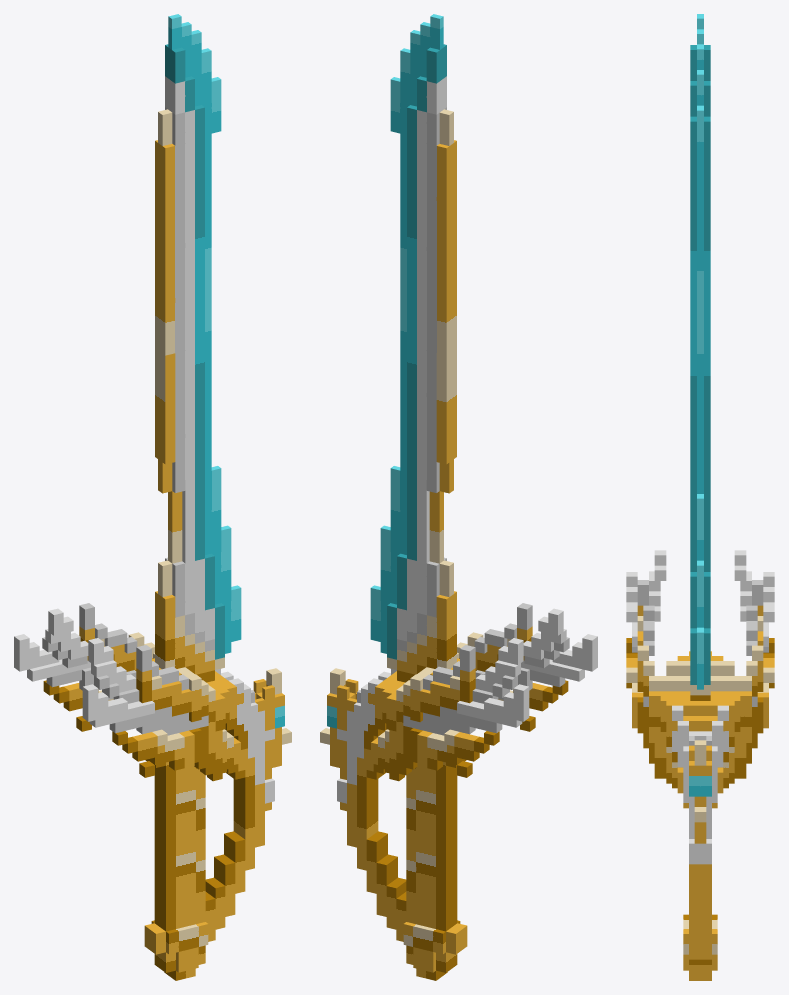
File: katana.gltf
The picture shows the model from 3 angles, left to right: view 1: azimuth 30°, elevation 25°; view 2: azimuth 150°, elevation 25°; view 3: azimuth 270°, elevation 25°; orthographic projection.
Visible parts, largest first — view 1: 570cc480-6270-a25c-bf84-ef49362b7244, 5fc17426-a85f-0b15-4359-f5493ddd0708, f7201d5a-1917-5e07-a4fb-13e13b9d6cca, 4e62e0ee-7360-2dc8-e777-ce7f57bca195, 2e2a6cba-bee2-8a7b-dd69-bbd5a6a8c971, 4c937c9e-9b77-12fa-7a12-b3beec4e554b, cb315742-deff-dafc-1913-c2b02e1ddc7b, 72219b45-7e13-3df1-3427-1bf5141d063c, 4b2b4730-247a-9a1a-f895-2172019347c0, 767d0eab-00f0-8bd3-aaf3-491b108863b1, 8ec7d277-5123-2d0f-2b3c-1e376cd5e0a7, 0d2dd542-af4e-cc5f-b95e-77bd811365df (+17 smaller); view 2: 570cc480-6270-a25c-bf84-ef49362b7244, 5fc17426-a85f-0b15-4359-f5493ddd0708, f7201d5a-1917-5e07-a4fb-13e13b9d6cca, 4e62e0ee-7360-2dc8-e777-ce7f57bca195, 2e2a6cba-bee2-8a7b-dd69-bbd5a6a8c971, 4c937c9e-9b77-12fa-7a12-b3beec4e554b, cb315742-deff-dafc-1913-c2b02e1ddc7b, 72219b45-7e13-3df1-3427-1bf5141d063c, 4b2b4730-247a-9a1a-f895-2172019347c0, 767d0eab-00f0-8bd3-aaf3-491b108863b1, 8ec7d277-5123-2d0f-2b3c-1e376cd5e0a7, 0d2dd542-af4e-cc5f-b95e-77bd811365df (+17 smaller); view 3: 570cc480-6270-a25c-bf84-ef49362b7244, f7201d5a-1917-5e07-a4fb-13e13b9d6cca, 4b2b4730-247a-9a1a-f895-2172019347c0, cb315742-deff-dafc-1913-c2b02e1ddc7b, 265fc725-95f0-8ba3-2846-b5e7803e0073, 8dc4ab7a-d48a-adbf-1e0e-35c6787785ef, 2e2a6cba-bee2-8a7b-dd69-bbd5a6a8c971, 7f9fc877-0c62-89db-e4c9-e67b2d5a31a3, f67aef8d-c8ae-8af3-65cd-d0c54d34977e, 8e897e09-a5ea-0563-c454-804012096235, eeb7eece-518a-c00d-c241-f82482d33e1f, 27142040-0444-bf21-23cd-cd746452ae29 (+28 smaller).
Boxes of the visible parts, x1=… form: 570cc480-6270-a25c-bf84-ef49362b7244: x1=155, y1=138, x2=204, y2=355; 5fc17426-a85f-0b15-4359-f5493ddd0708: x1=154, y1=762, x2=205, y2=931; f7201d5a-1917-5e07-a4fb-13e13b9d6cca: x1=172, y1=346, x2=204, y2=482; 4e62e0ee-7360-2dc8-e777-ce7f57bca195: x1=155, y1=348, x2=175, y2=464; 2e2a6cba-bee2-8a7b-dd69-bbd5a6a8c971: x1=165, y1=553, x2=214, y2=617; 4c937c9e-9b77-12fa-7a12-b3beec4e554b: x1=155, y1=603, x2=224, y2=650; cb315742-deff-dafc-1913-c2b02e1ddc7b: x1=182, y1=475, x2=204, y2=563; 72219b45-7e13-3df1-3427-1bf5141d063c: x1=233, y1=757, x2=254, y2=870; 4b2b4730-247a-9a1a-f895-2172019347c0: x1=205, y1=133, x2=211, y2=342; 767d0eab-00f0-8bd3-aaf3-491b108863b1: x1=155, y1=636, x2=224, y2=669; 8ec7d277-5123-2d0f-2b3c-1e376cd5e0a7: x1=205, y1=466, x2=221, y2=554; 0d2dd542-af4e-cc5f-b95e-77bd811365df: x1=211, y1=525, x2=231, y2=604; 570cc480-6270-a25c-bf84-ef49362b7244: x1=407, y1=138, x2=456, y2=355; 5fc17426-a85f-0b15-4359-f5493ddd0708: x1=406, y1=762, x2=457, y2=931; f7201d5a-1917-5e07-a4fb-13e13b9d6cca: x1=407, y1=346, x2=439, y2=482; 4e62e0ee-7360-2dc8-e777-ce7f57bca195: x1=436, y1=348, x2=456, y2=464; 2e2a6cba-bee2-8a7b-dd69-bbd5a6a8c971: x1=397, y1=553, x2=446, y2=617; 4c937c9e-9b77-12fa-7a12-b3beec4e554b: x1=387, y1=603, x2=456, y2=650; cb315742-deff-dafc-1913-c2b02e1ddc7b: x1=407, y1=475, x2=429, y2=563; 72219b45-7e13-3df1-3427-1bf5141d063c: x1=357, y1=757, x2=378, y2=870; 4b2b4730-247a-9a1a-f895-2172019347c0: x1=400, y1=133, x2=406, y2=342; 767d0eab-00f0-8bd3-aaf3-491b108863b1: x1=387, y1=636, x2=456, y2=669; 8ec7d277-5123-2d0f-2b3c-1e376cd5e0a7: x1=390, y1=466, x2=406, y2=554; 0d2dd542-af4e-cc5f-b95e-77bd811365df: x1=380, y1=525, x2=400, y2=604; 570cc480-6270-a25c-bf84-ef49362b7244: x1=690, y1=152, x2=710, y2=359; f7201d5a-1917-5e07-a4fb-13e13b9d6cca: x1=690, y1=359, x2=710, y2=488; 4b2b4730-247a-9a1a-f895-2172019347c0: x1=697, y1=162, x2=703, y2=364; cb315742-deff-dafc-1913-c2b02e1ddc7b: x1=690, y1=489, x2=710, y2=571; 265fc725-95f0-8ba3-2846-b5e7803e0073: x1=660, y1=676, x2=740, y2=691; 8dc4ab7a-d48a-adbf-1e0e-35c6787785ef: x1=697, y1=364, x2=703, y2=493; 2e2a6cba-bee2-8a7b-dd69-bbd5a6a8c971: x1=690, y1=572, x2=710, y2=628; 7f9fc877-0c62-89db-e4c9-e67b2d5a31a3: x1=666, y1=661, x2=734, y2=675; f67aef8d-c8ae-8af3-65cd-d0c54d34977e: x1=689, y1=864, x2=711, y2=900; 8e897e09-a5ea-0563-c454-804012096235: x1=683, y1=746, x2=717, y2=802; eeb7eece-518a-c00d-c241-f82482d33e1f: x1=654, y1=727, x2=666, y2=778; 27142040-0444-bf21-23cd-cd746452ae29: x1=734, y1=727, x2=746, y2=778.
Size of the model in its own units: 0.75 by 2.89 by 0.4062.
1 material, 1 textured.
